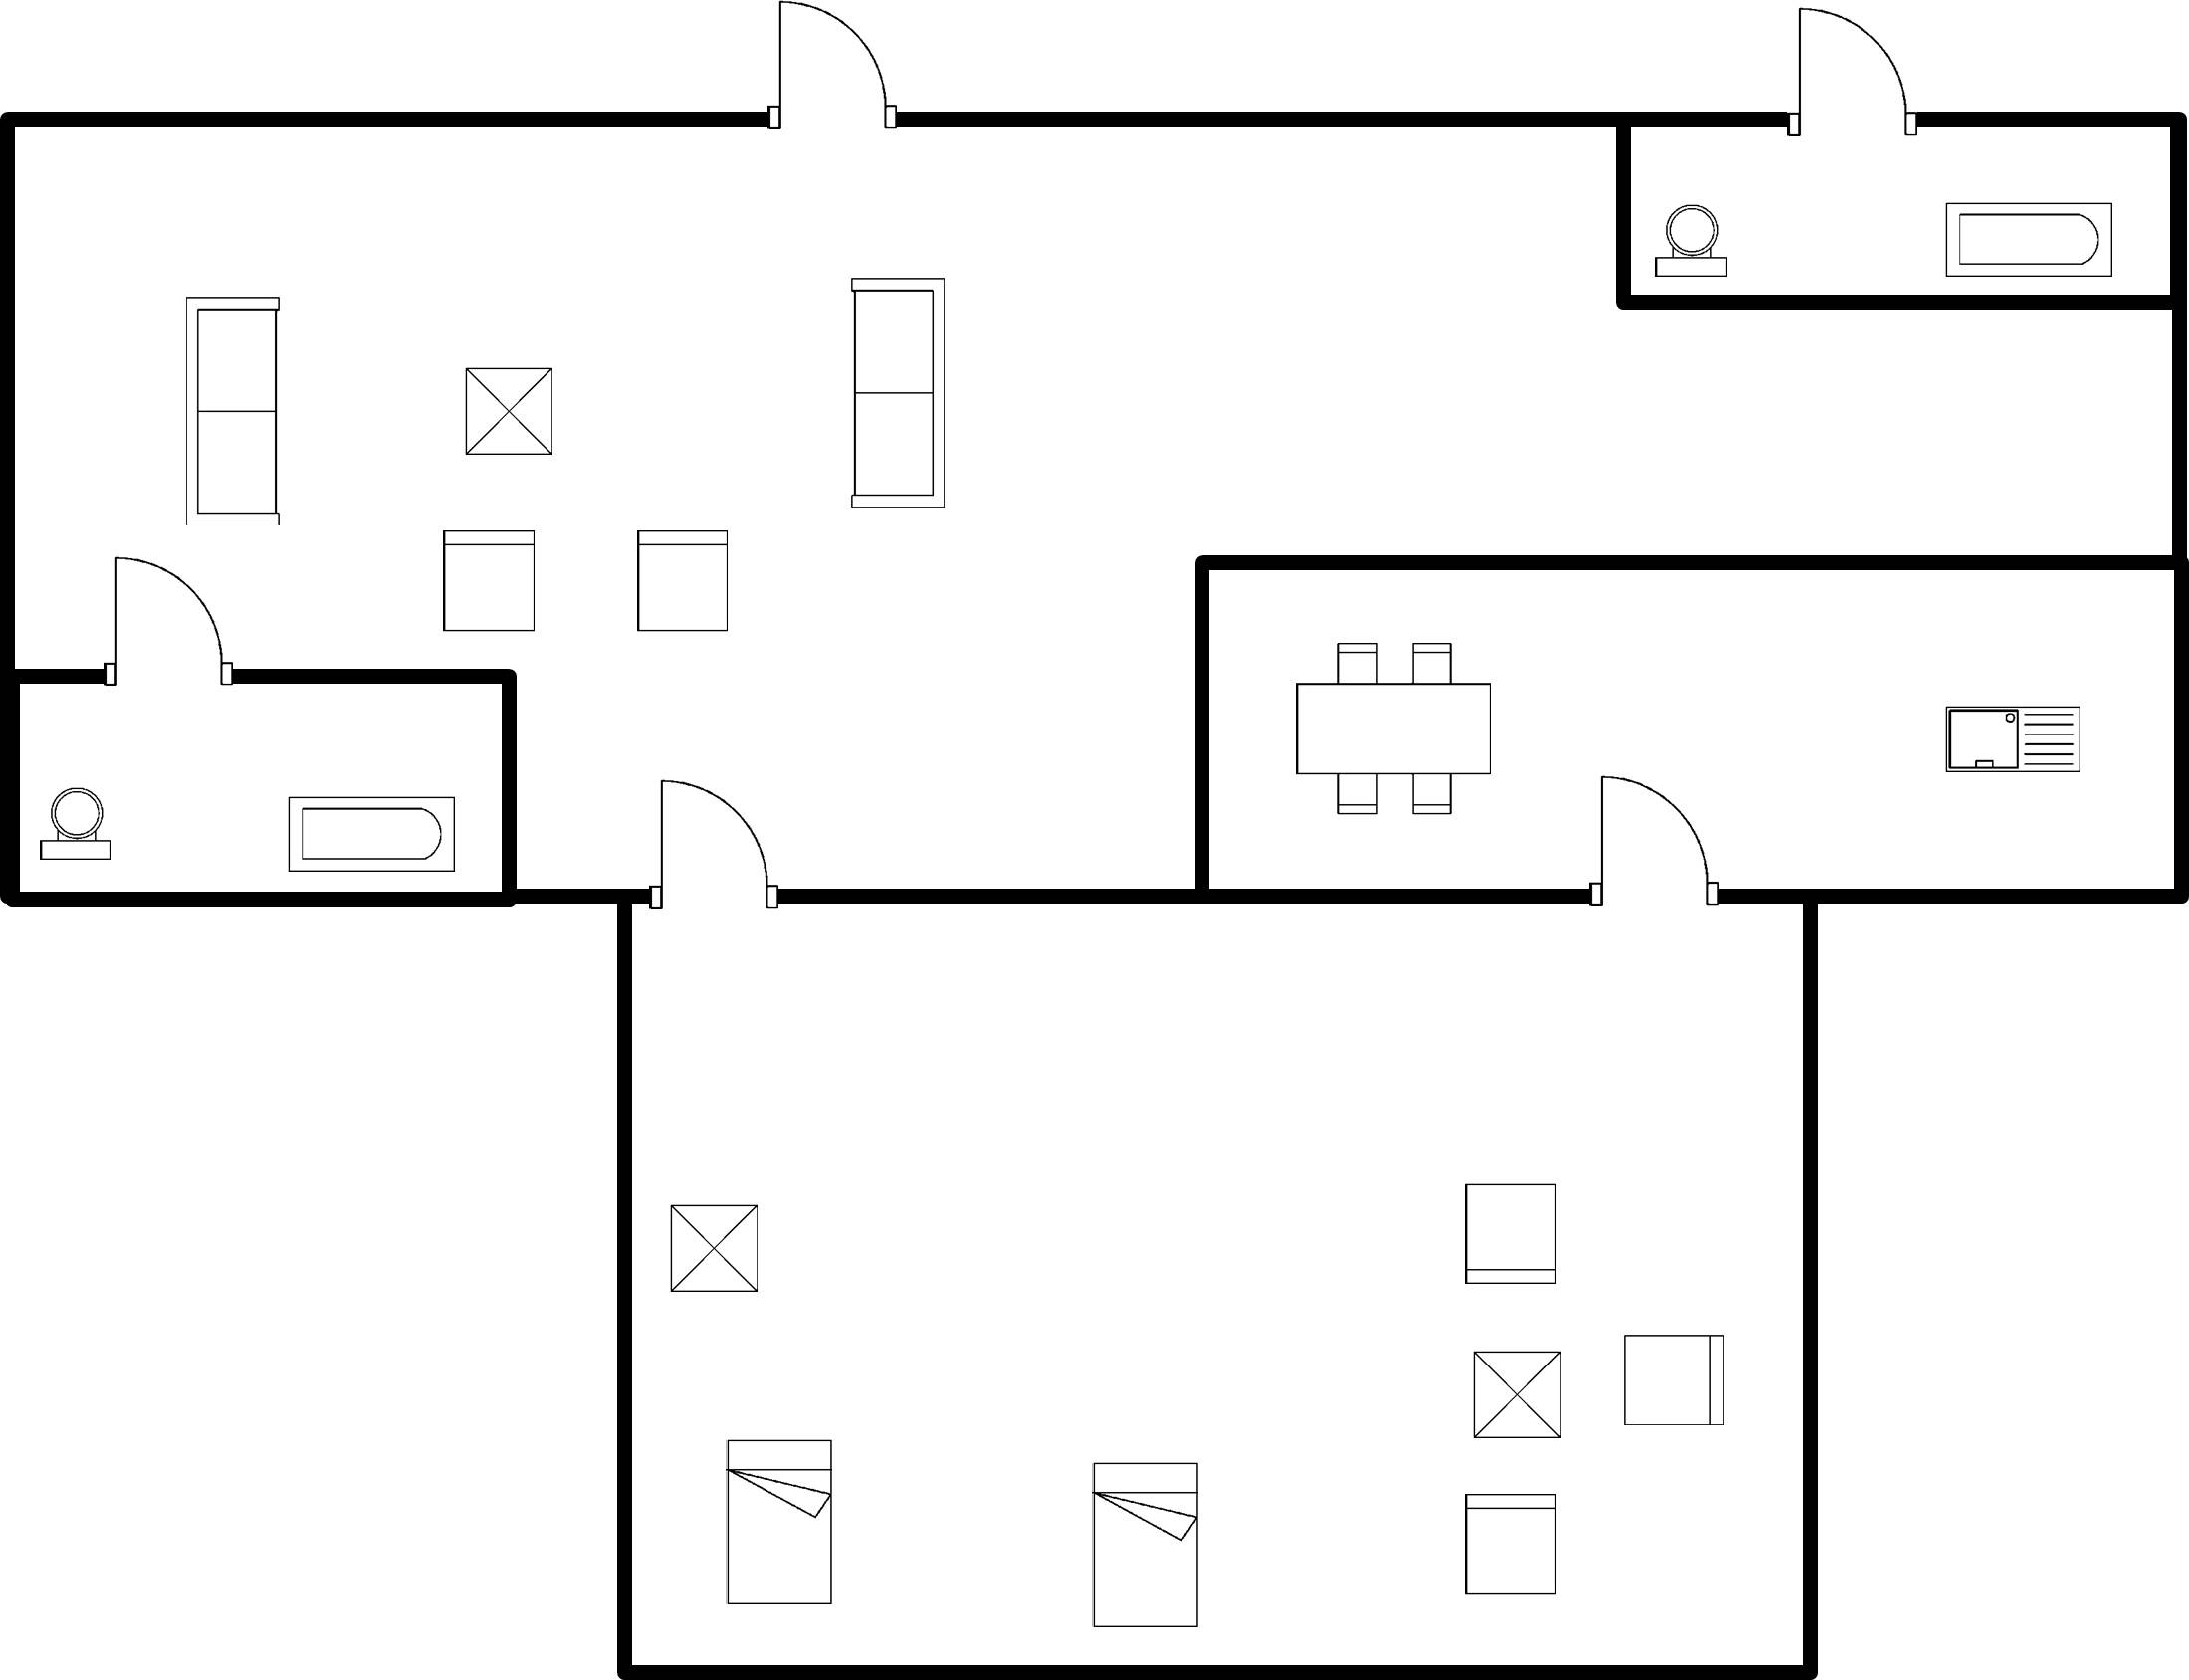bed: (710, 1424, 847, 1620), (1074, 1450, 1212, 1641)
coffee_table: (653, 1192, 773, 1308), (1454, 1338, 1573, 1453), (455, 353, 563, 473)
dining_table: (1276, 626, 1508, 832)
large_sink: (1646, 194, 1738, 284), (33, 779, 122, 869)
large_sofa: (837, 266, 953, 521), (174, 284, 292, 536)
sink: (1929, 698, 2098, 791)
small_sofa: (620, 519, 740, 651), (1447, 1169, 1570, 1299), (432, 521, 549, 646), (1450, 1483, 1565, 1610), (1613, 1323, 1735, 1440)
tub: (1932, 190, 2129, 287), (271, 786, 469, 881)
